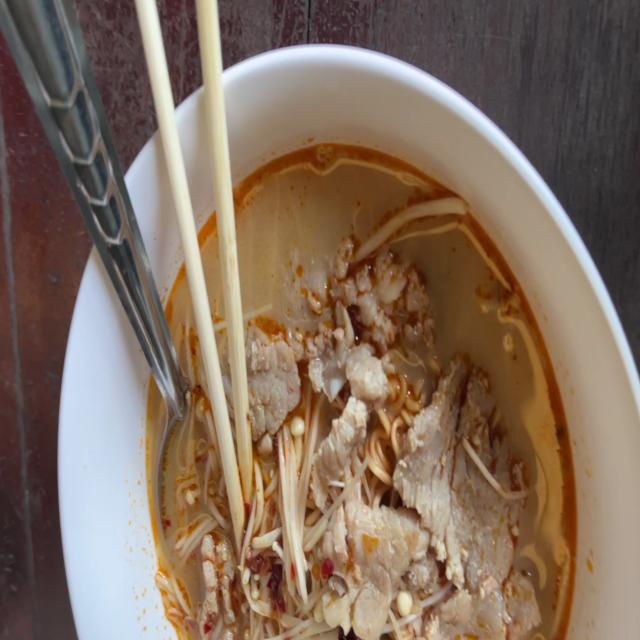noodle: (142, 134, 578, 640)
